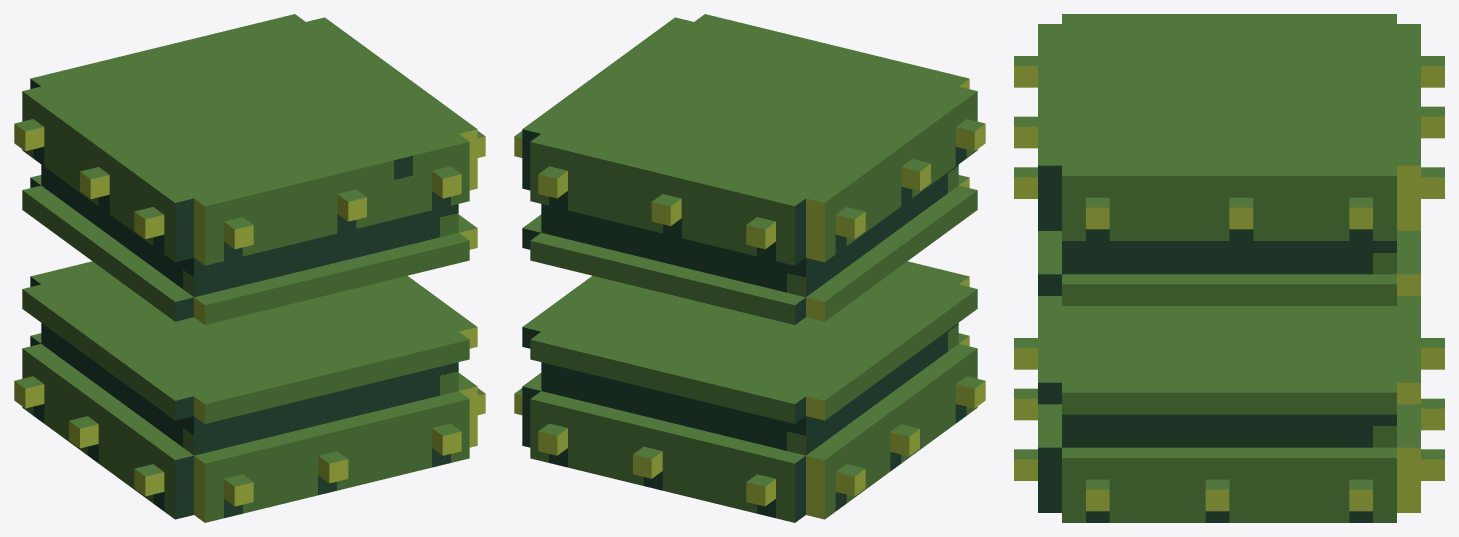
The model's file is sewer_pivot_baseao.fezao.glb.
3 renders of one model, left to right at view 1: azimuth 30°, elevation 25°; view 2: azimuth 150°, elevation 25°; view 3: azimuth 270°, elevation 25°, orthographic. The views are drawn at different scales.
Visible parts, largest first — view 1: SEWER_PIVOT_BASEAO; view 2: SEWER_PIVOT_BASEAO; view 3: SEWER_PIVOT_BASEAO.
Part boxes in pixels (<box>): SEWER_PIVOT_BASEAO: <box>14,14,485,522</box>; SEWER_PIVOT_BASEAO: <box>514,14,985,522</box>; SEWER_PIVOT_BASEAO: <box>1014,14,1444,522</box>.
Bounding box in the file's own units: 1.12 × 1 × 1.12.
1 material, 1 textured.
